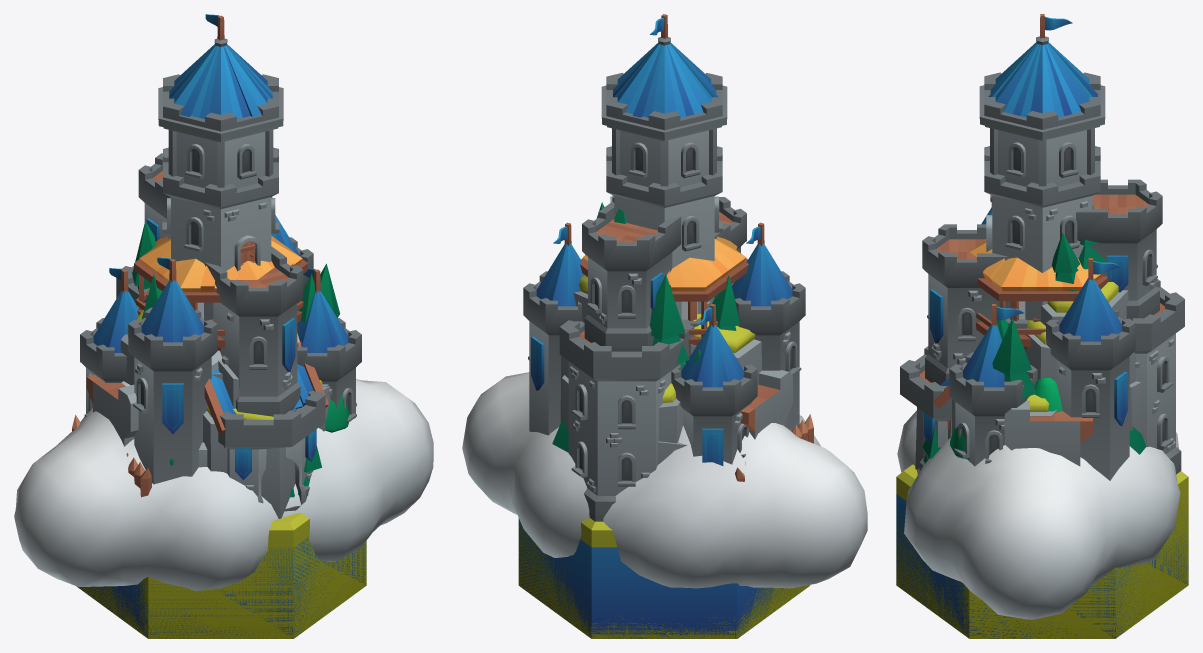
Rendered from env.glb.
3 views of the same model, side by side, from view 1: azimuth 30°, elevation 25°; view 2: azimuth 150°, elevation 25°; view 3: azimuth 270°, elevation 25° (orthographic).
Visible parts, largest first — view 1: building_castle_blue, cloud_big, hex_grass, hex_water, building_tower_B_yellow, mountain_C_grass, wall_straight_gate, building_watermill_blue, mountain_A_grass_trees, trees_B_large, fence_wood_straight; view 2: building_castle_blue, cloud_big, hex_water, hex_grass, building_tower_B_yellow, mountain_C_grass, mountain_A_grass_trees, wall_straight_gate, mountain_B_grass_trees; view 3: building_castle_blue, cloud_big, hex_grass, hex_water, mountain_B_grass_trees, building_tower_B_yellow, wall_straight_gate, mountain_A_grass_trees, mountain_C_grass, trees_A_large, trees_B_medium.
Part boxes in pixels (x1,y1,x2,y2): building_castle_blue: (80, 14, 361, 511); cloud_big: (14, 379, 433, 591); hex_grass: (77, 513, 366, 638); hex_water: (79, 537, 366, 638); building_tower_B_yellow: (134, 236, 307, 350); mountain_C_grass: (120, 310, 327, 518); wall_straight_gate: (86, 333, 299, 446); building_watermill_blue: (204, 342, 328, 447); mountain_A_grass_trees: (132, 221, 339, 431); trees_B_large: (169, 393, 349, 465); fence_wood_straight: (72, 414, 151, 497); building_castle_blue: (523, 14, 805, 521); cloud_big: (462, 372, 867, 588); hex_water: (518, 518, 795, 638); hex_grass: (518, 518, 810, 638); building_tower_B_yellow: (580, 236, 748, 346); mountain_C_grass: (562, 314, 762, 443); mountain_A_grass_trees: (560, 274, 740, 465); wall_straight_gate: (740, 370, 792, 439); mountain_B_grass_trees: (560, 202, 717, 464); building_castle_blue: (900, 14, 1184, 480); cloud_big: (897, 410, 1180, 619); hex_grass: (896, 464, 1188, 638); hex_water: (896, 494, 1188, 638); mountain_B_grass_trees: (996, 205, 1135, 416); building_tower_B_yellow: (970, 240, 1108, 349); wall_straight_gate: (1004, 400, 1092, 466); mountain_A_grass_trees: (952, 318, 1036, 434); mountain_C_grass: (915, 381, 1141, 469); trees_A_large: (919, 424, 1146, 469); trees_B_medium: (1035, 378, 1062, 412).
Size of the model in its own units: 3.61 by 4.98 by 2.31.
Materials: 1 (1 with a texture image).
